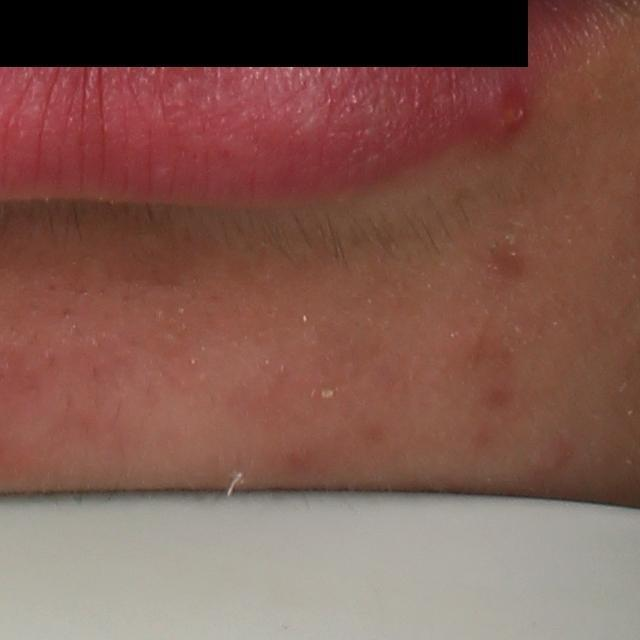papule: (480, 84, 528, 144)
